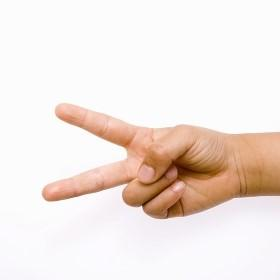tyoki: (40, 102, 227, 221)
